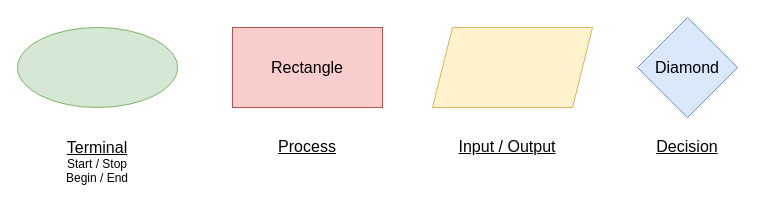
The diagram is 780 pixels wide and 209 high, and some of its shapes have lost their labels. The shapes that lost their labels are listed below. From the top down, each one's centre as x and y in pixels, then its label:
point (97, 67): Oval
point (512, 67): Parallelogram
